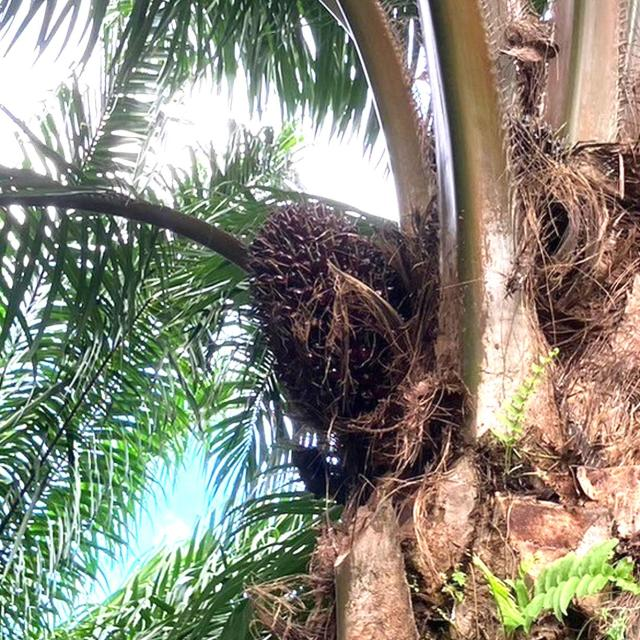ripe: (248, 205, 402, 427)
